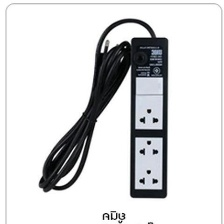three_eye_plug: (127, 35, 170, 200)
